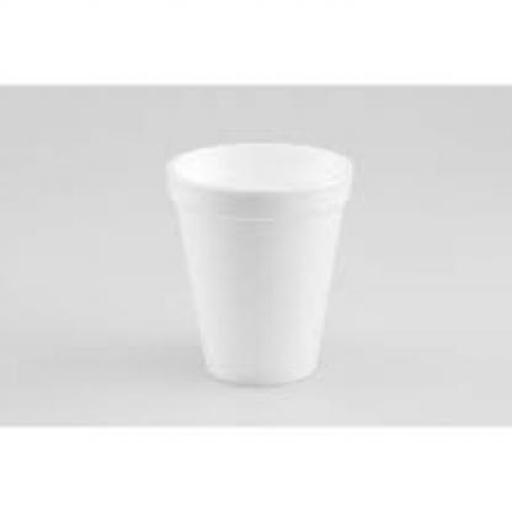paper: (166, 139, 351, 382)
